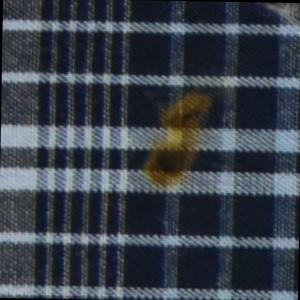Damage: (154, 99, 210, 180)
Oil Stain: (141, 90, 215, 193)
